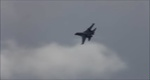maybay_muctieu: (75, 21, 96, 47)
